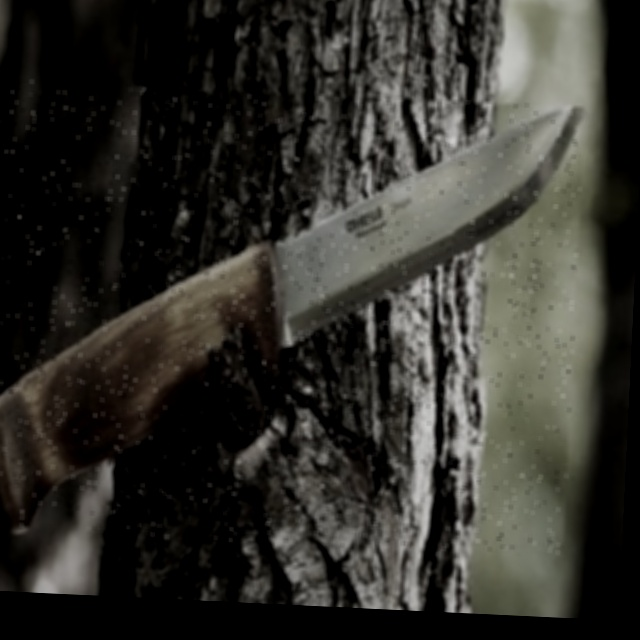Sharp-Object: (0, 79, 585, 557)
